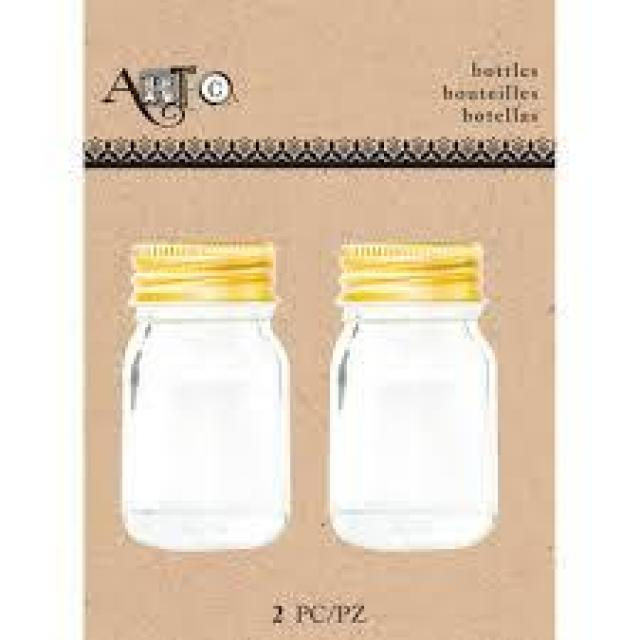non-organic waste: (118, 238, 297, 556)
